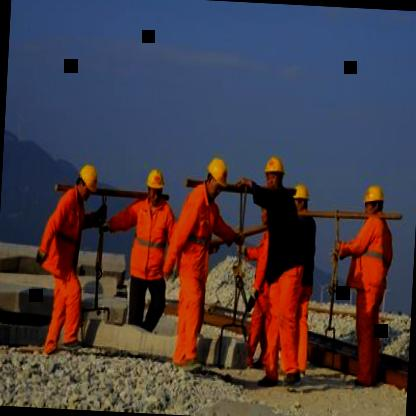helmet: (358, 182, 388, 226), (259, 152, 287, 198), (202, 154, 229, 198), (140, 166, 166, 209), (74, 162, 100, 199), (290, 181, 312, 215)
